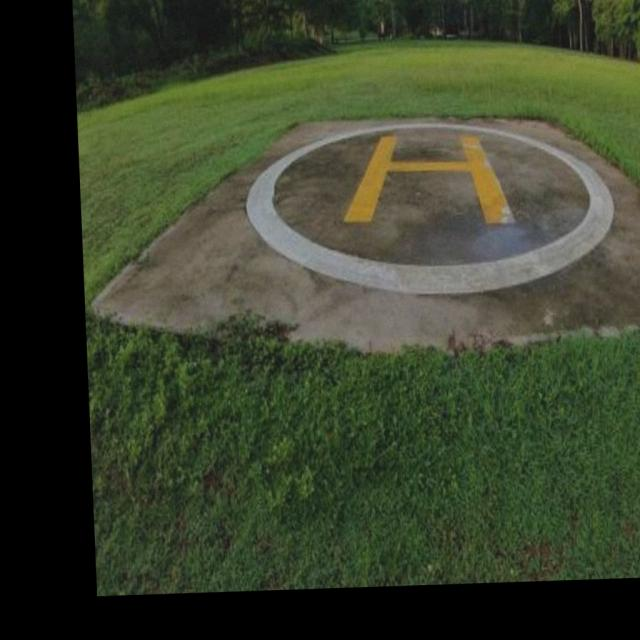helipad: (240, 119, 618, 301)
